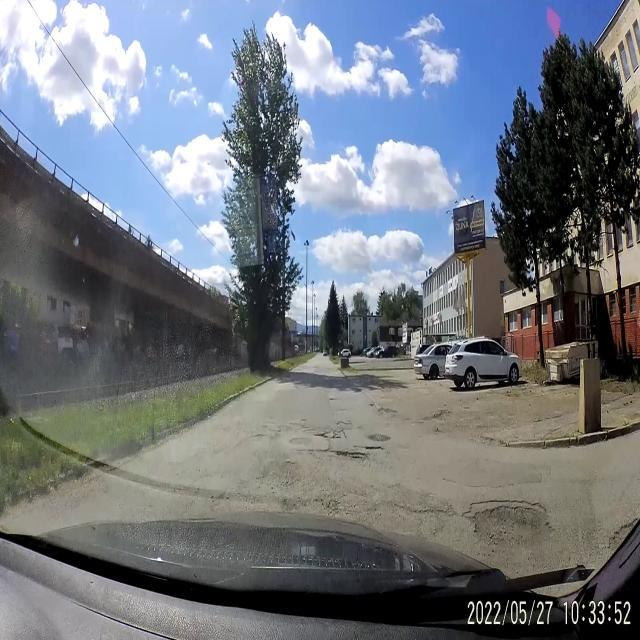Manhole: (368, 430, 392, 446)
Pothole: (466, 498, 554, 546), (336, 445, 386, 467), (329, 420, 352, 442), (304, 424, 329, 436), (290, 434, 310, 446)
